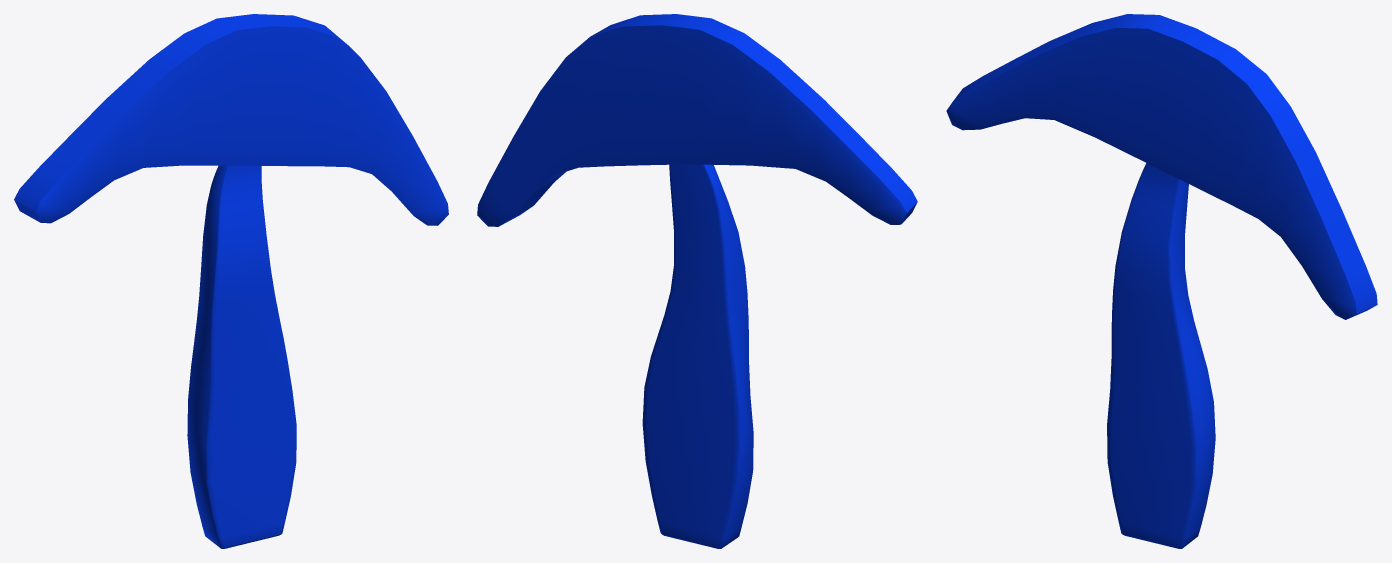
File: SM_FP_Mushroom_Chopped.fbx
3 views of the same model, side by side, from view 1: azimuth 30°, elevation 25°; view 2: azimuth 150°, elevation 25°; view 3: azimuth 330°, elevation 25° (orthographic). The views are drawn at different scales.
Parts seen in each view (by area): view 1: SM_FP_Mushroom_Chopped; view 2: SM_FP_Mushroom_Chopped; view 3: SM_FP_Mushroom_Chopped.
Boxes of the visible parts, box(x1,y1,x2,y2) form: SM_FP_Mushroom_Chopped: box(14, 14, 448, 548); SM_FP_Mushroom_Chopped: box(477, 14, 917, 548); SM_FP_Mushroom_Chopped: box(946, 14, 1377, 548).
Bounding box in the file's own units: 20.72 × 23.93 × 1.93.
